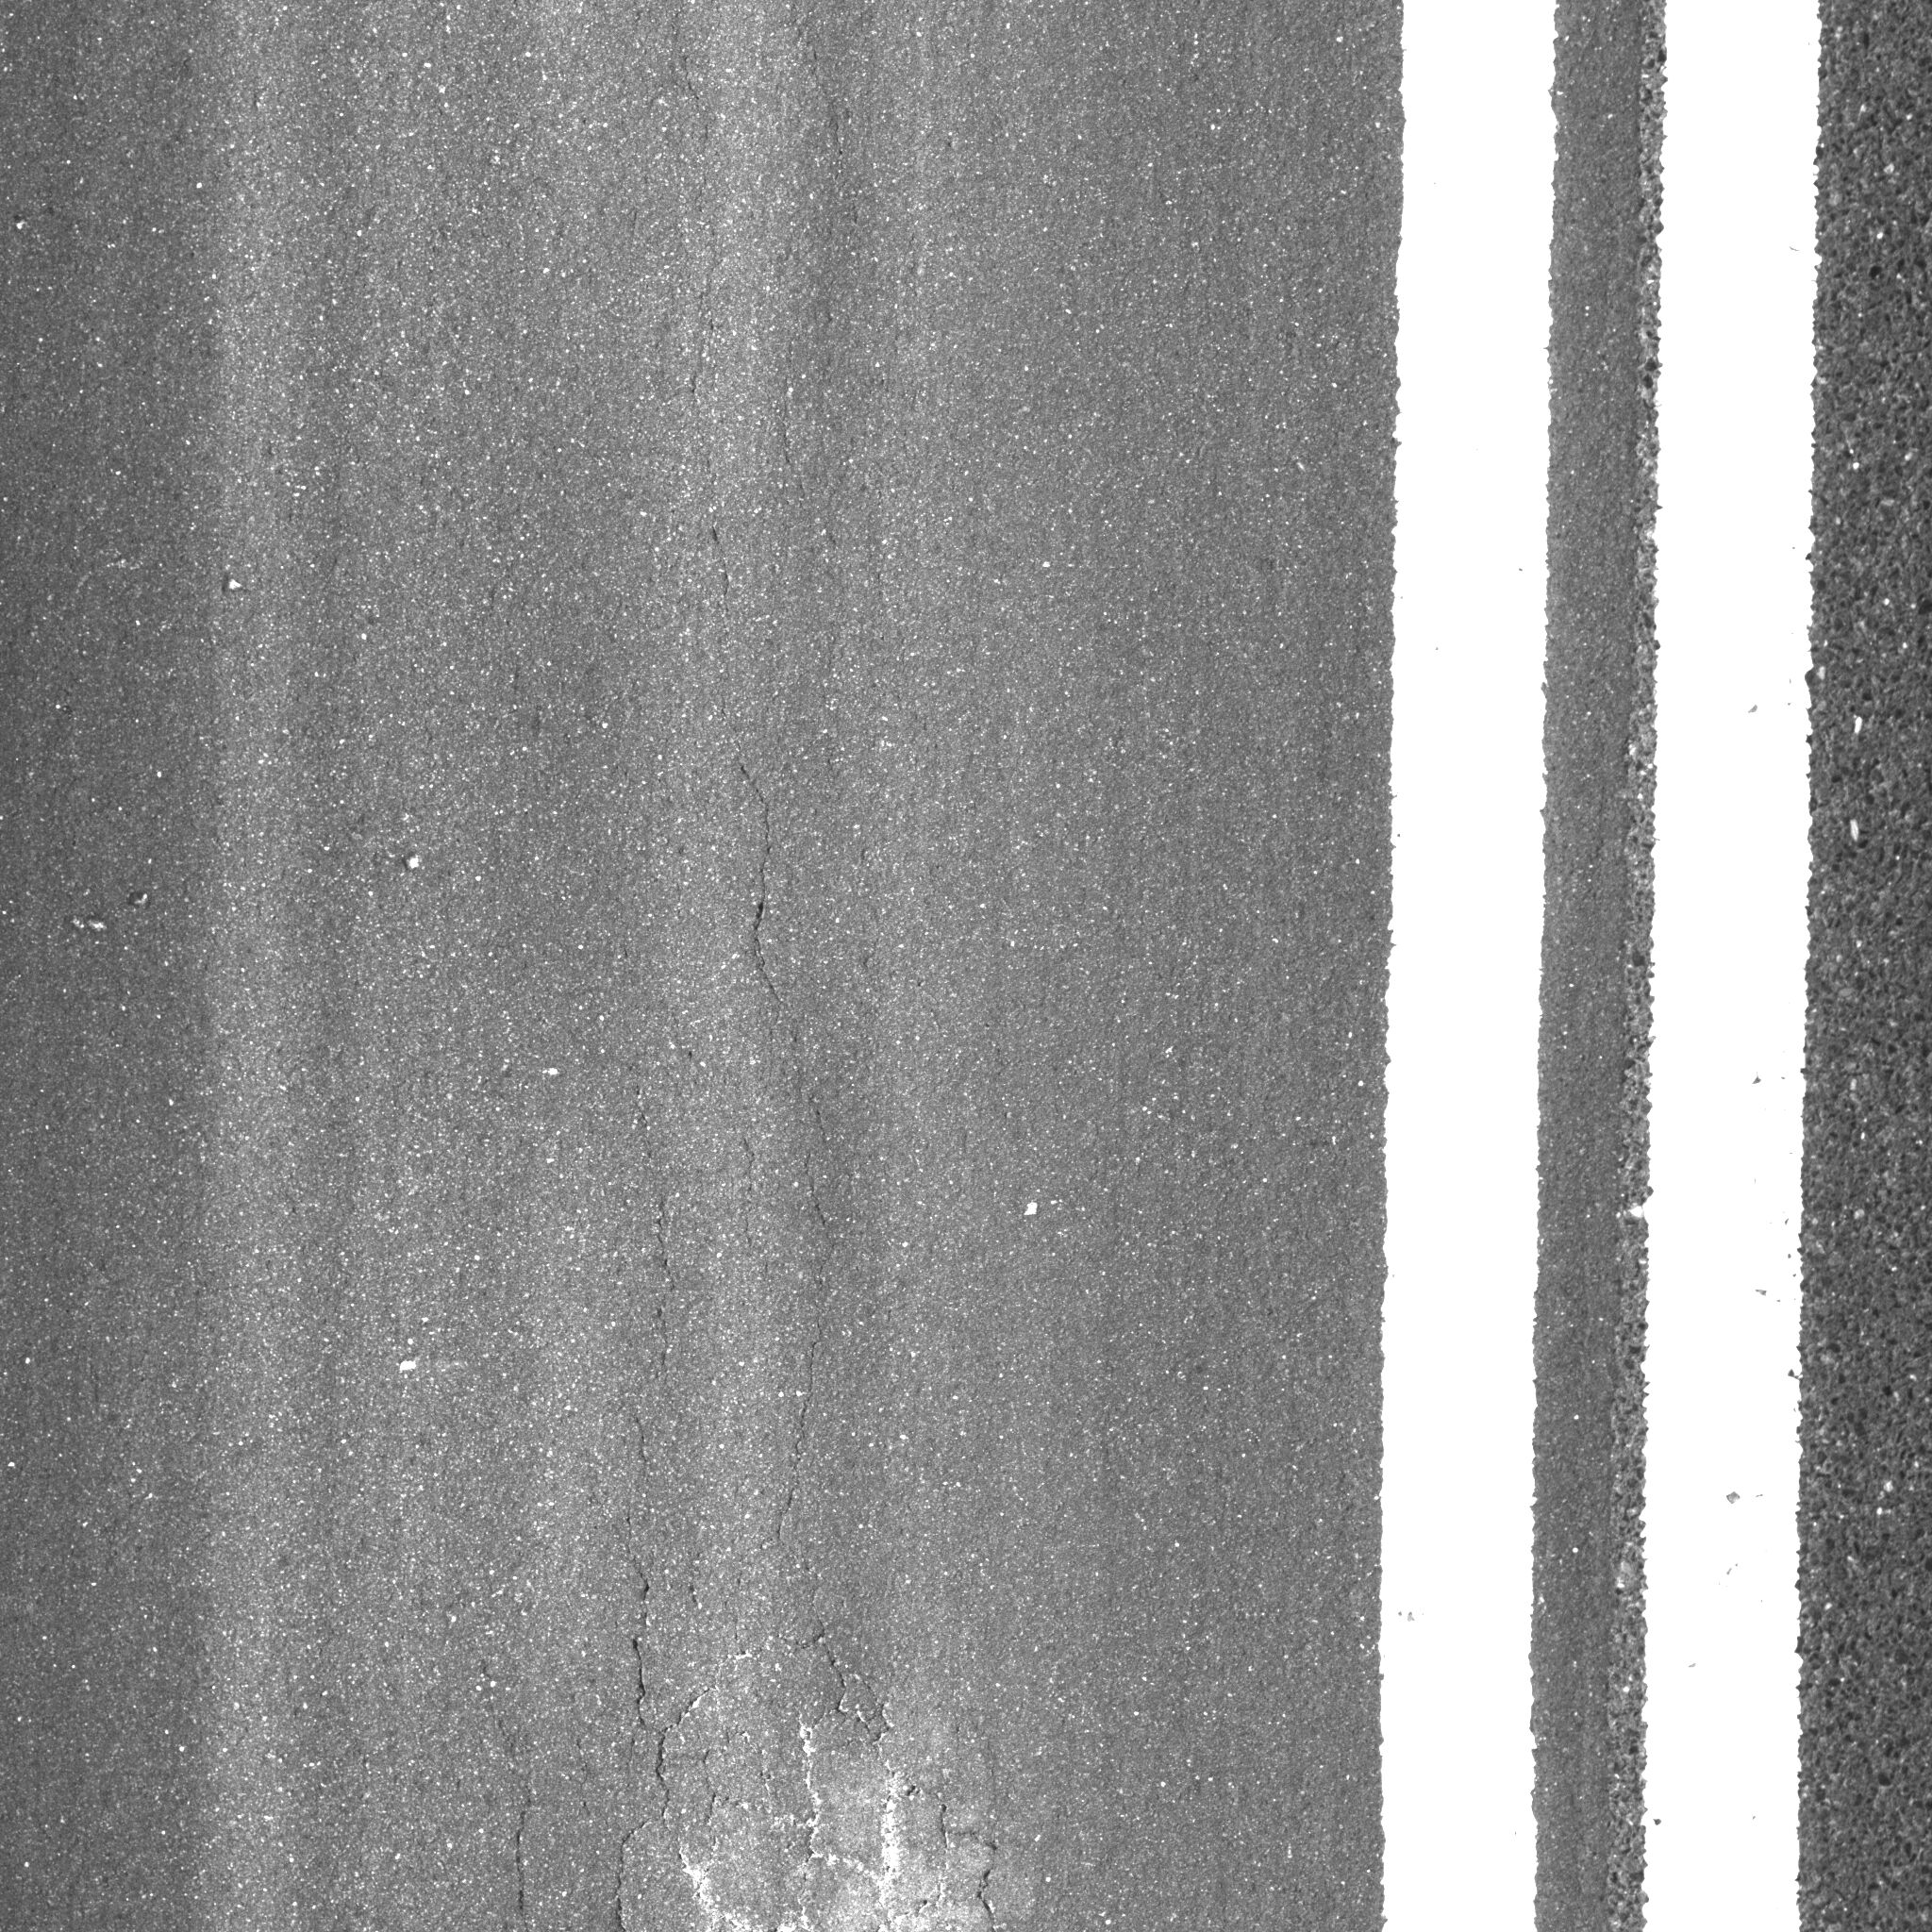alligator: (357, 1408, 1090, 1932)
